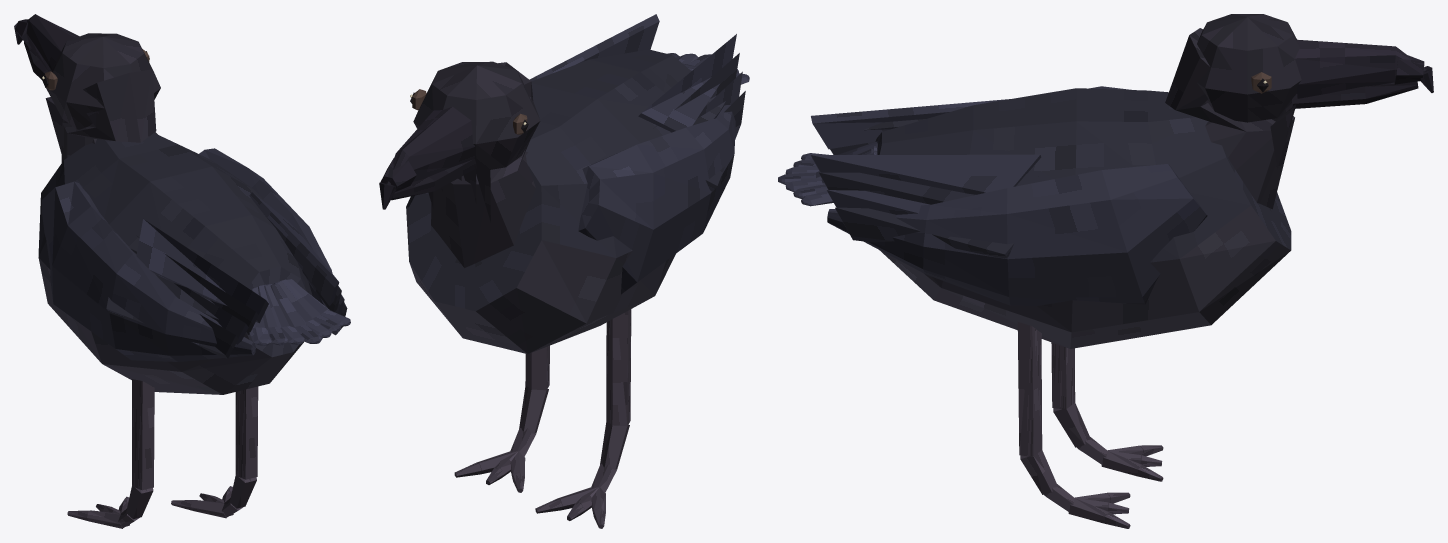
File: mon_raven.glb
3 views of the same model, side by side, from view 1: azimuth 30°, elevation 25°; view 2: azimuth 150°, elevation 25°; view 3: azimuth 270°, elevation 25° (orthographic). The views are drawn at different scales.
Visible parts, largest first — view 1: closed_body; view 2: closed_body; view 3: closed_body.
Part boxes in pixels (x1,y1,x2,y2): closed_body: [14, 14, 350, 528]; closed_body: [379, 14, 749, 528]; closed_body: [778, 14, 1433, 528].
Size of the model in its own units: 0.1742 by 0.335 by 0.4202.
Materials: 1 (1 with a texture image).
